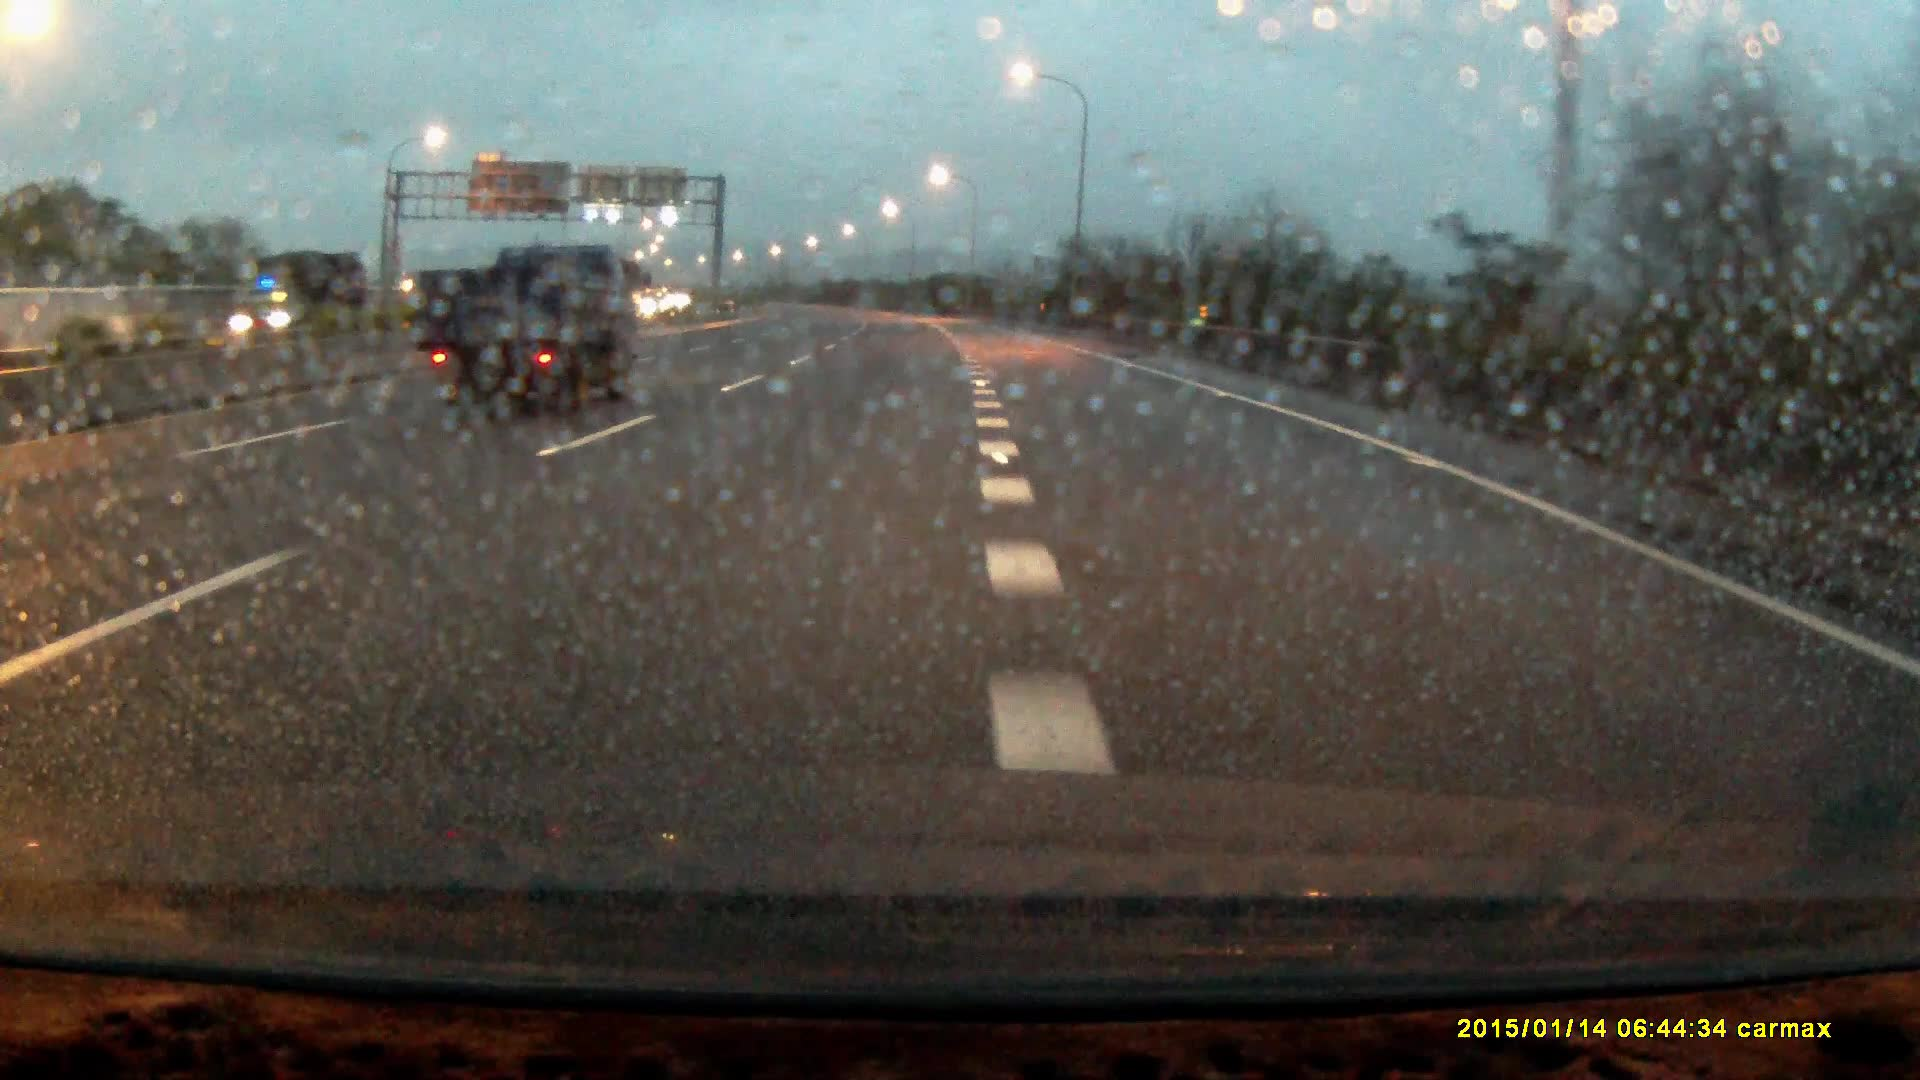vehicle: (413, 244, 632, 417), (223, 262, 364, 342)
